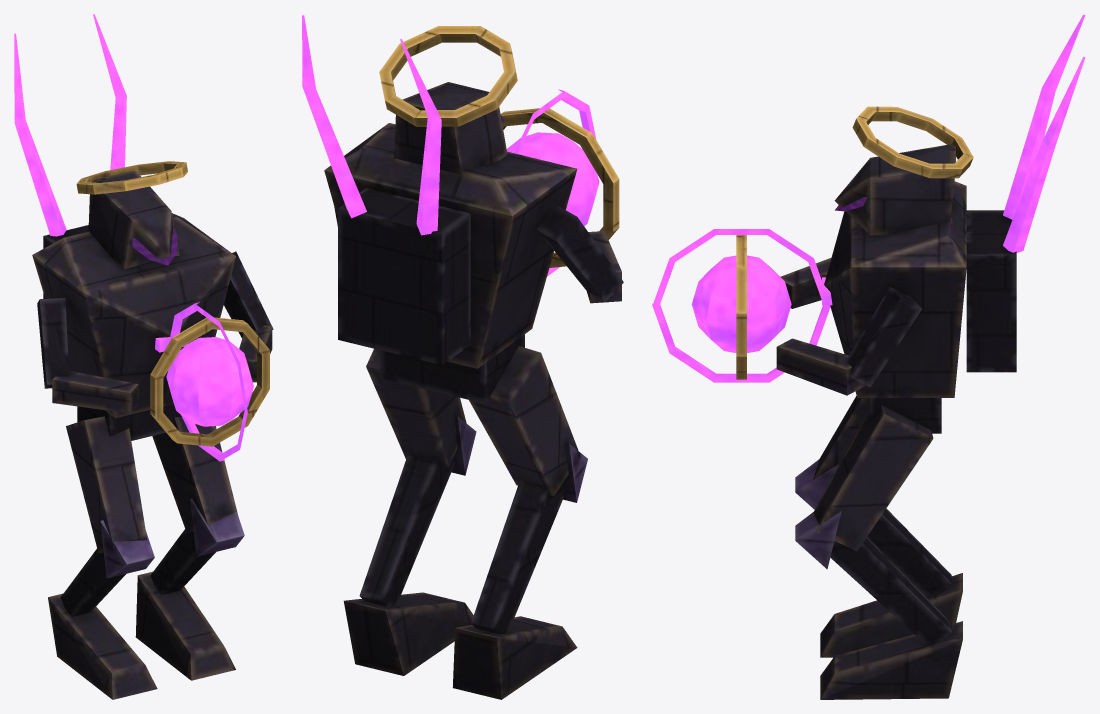
The model's file is e_disruptor.glb.
3 views of the same model, side by side, from view 1: azimuth 30°, elevation 25°; view 2: azimuth 150°, elevation 25°; view 3: azimuth 270°, elevation 25° (orthographic). The views are drawn at different scales.
Parts seen in each view (by area): view 1: e_disruptor; view 2: e_disruptor; view 3: e_disruptor.
Part boxes in pixels (x1=…): e_disruptor: x1=14, y1=14, x2=273, y2=699; e_disruptor: x1=302, y1=15, x2=623, y2=699; e_disruptor: x1=652, y1=14, x2=1085, y2=699.
Bounding box in the file's own units: 0.8554 × 2.07 × 1.29.
Materials: 1 (1 with a texture image).
